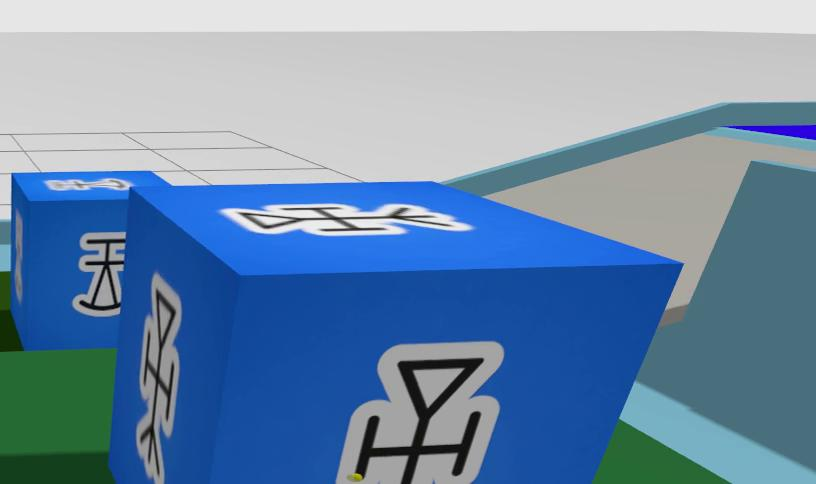KFS_REAL: (107, 182, 680, 484), (11, 171, 167, 347), (335, 344, 502, 484), (136, 272, 181, 484), (220, 203, 472, 236), (72, 231, 124, 314)
